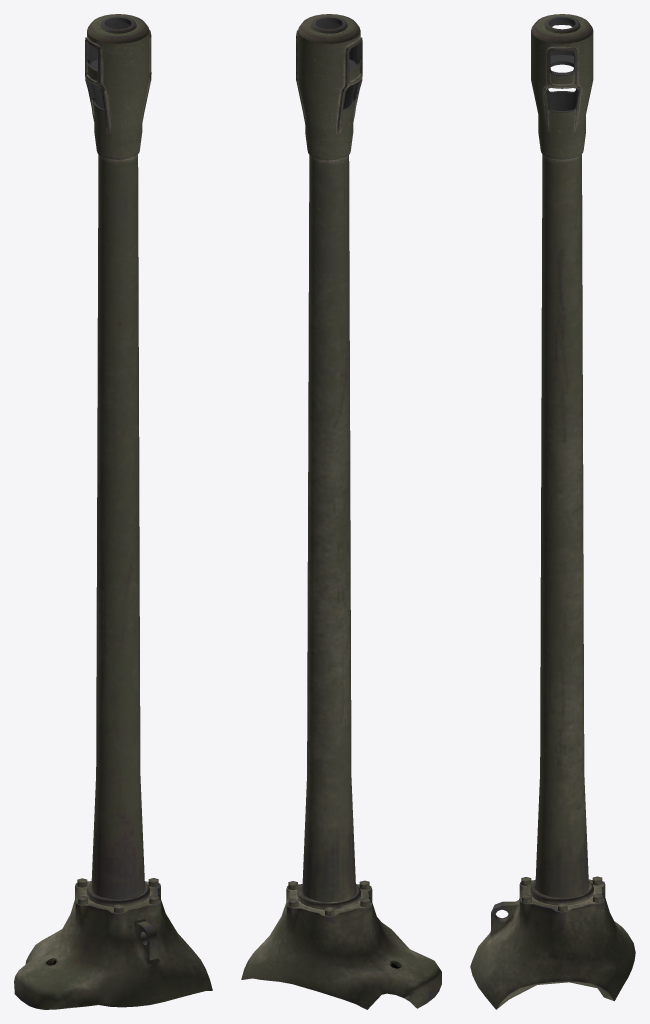
The model's file is Gun_04.glb.
The picture shows the model from 3 angles, left to right: view 1: azimuth 30°, elevation 25°; view 2: azimuth 150°, elevation 25°; view 3: azimuth 270°, elevation 25°; orthographic projection.
Parts seen in each view (by area): view 1: set_0_group_0; view 2: set_0_group_0; view 3: set_0_group_0.
Part boxes in pixels (left/top/right/bottom): set_0_group_0: left=14, top=14, right=212, bottom=1009; set_0_group_0: left=241, top=14, right=441, bottom=1009; set_0_group_0: left=470, top=14, right=635, bottom=1009.
Bounding box in the file's own units: 0.7907 × 4.55 × 0.7137.
1 material, 1 textured.
